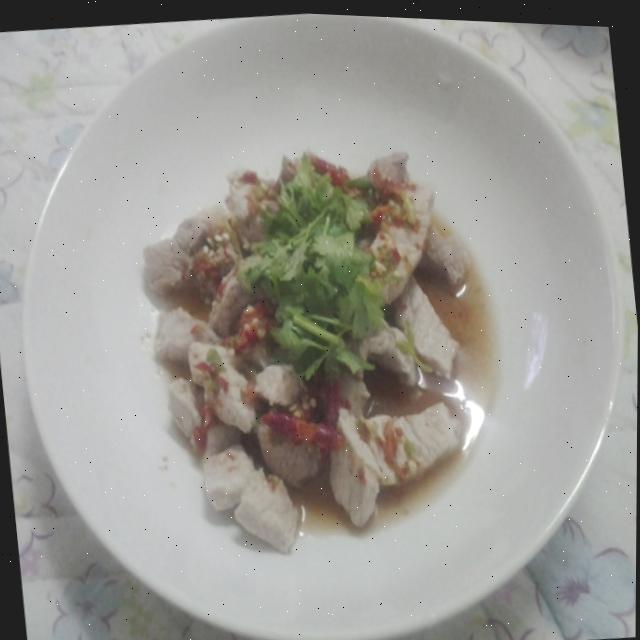猪肉菜式: (44, 38, 590, 618)
